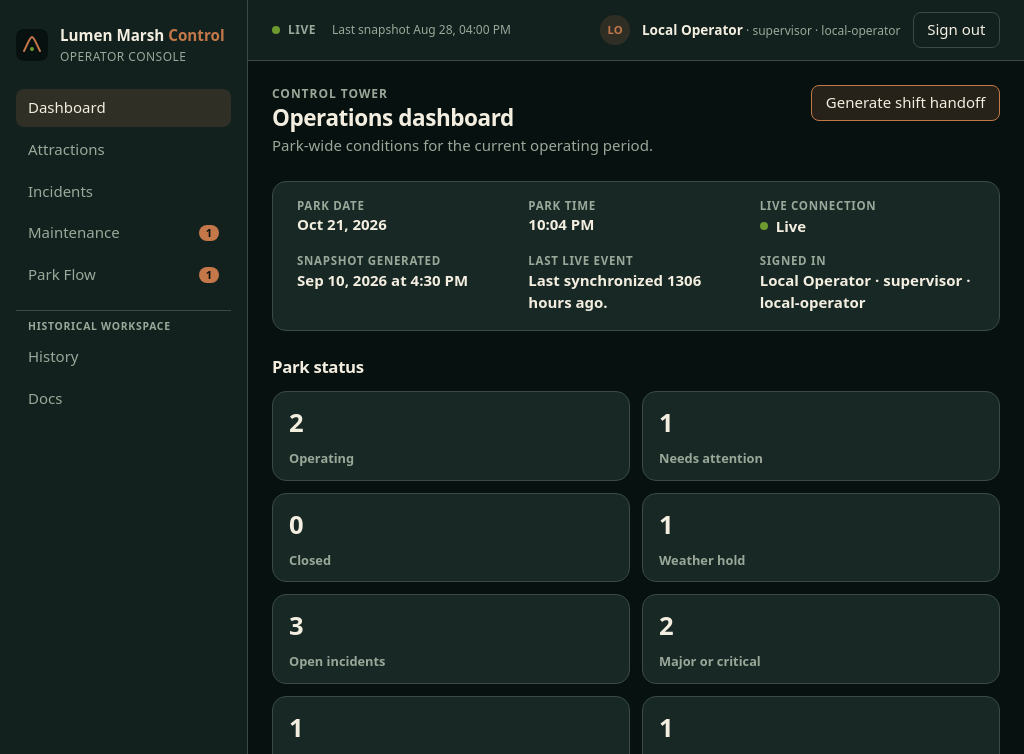
it: Operations dashboard › navigates summary metrics to filtered workspaces
Click the link with aria-label "1 attraction on weather hold" at (702,560), box [642, 492, 1000, 582]
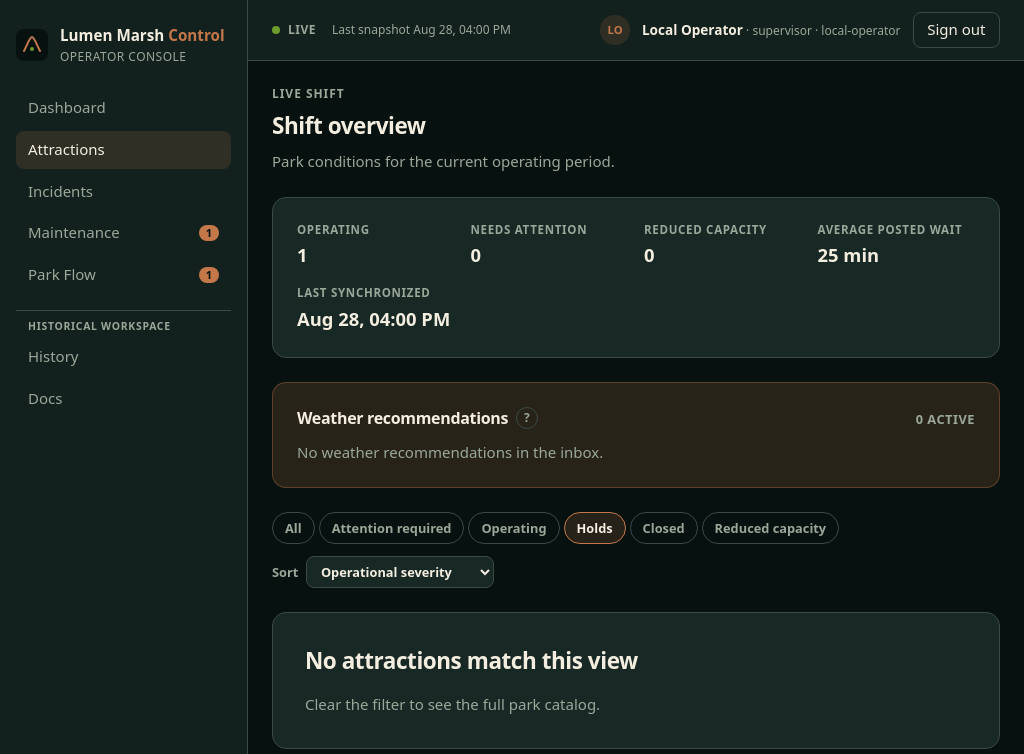
Expected: the heading "Shift overview" is shown, [272, 110, 426, 141]
